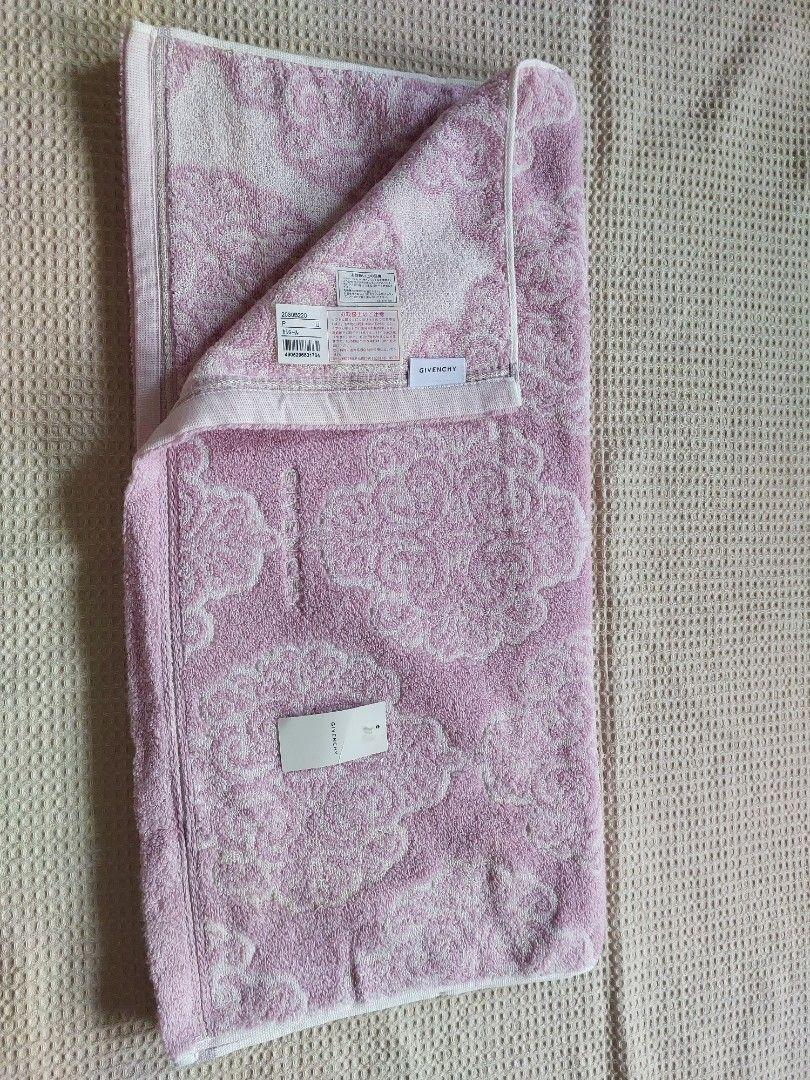towel: (88, 40, 630, 1038)
